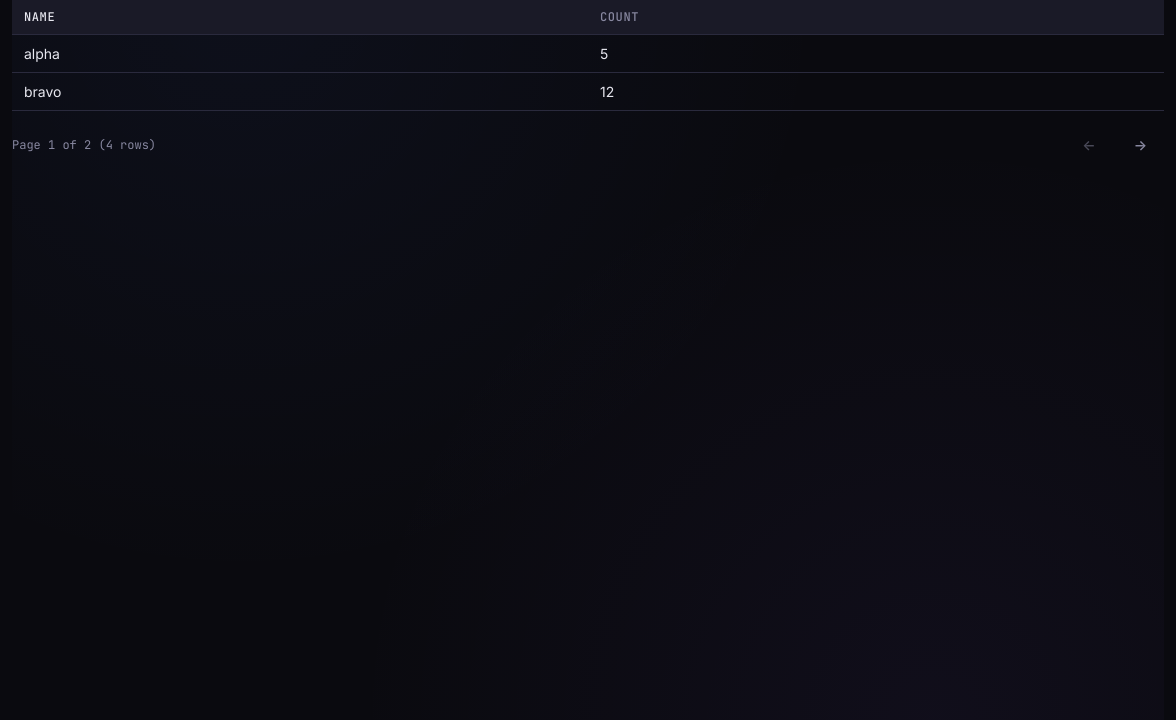
Scenario: DataTable › paginates and updates page on next/prev click
Check: the text "alpha" is shown, box top-left (24, 45), bottom-right (60, 62)
Check: the text "bravo" is shown, box top-left (24, 83), bottom-right (62, 100)
Click the button named "Next page".
click(1140, 144)  # box top-left (1117, 127), bottom-right (1164, 162)
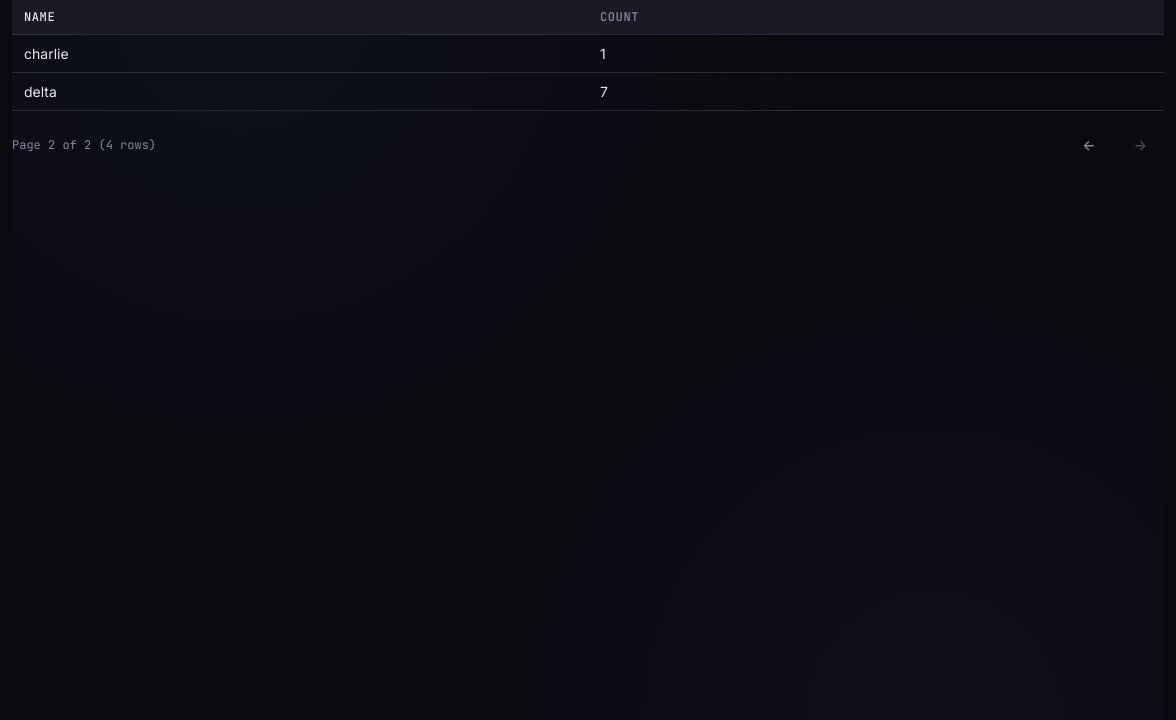
Check: the text "alpha" is gone
Check: the text "charlie" is shown, box top-left (24, 45), bottom-right (69, 62)
Check: the text "delta" is shown, box top-left (24, 83), bottom-right (57, 100)
